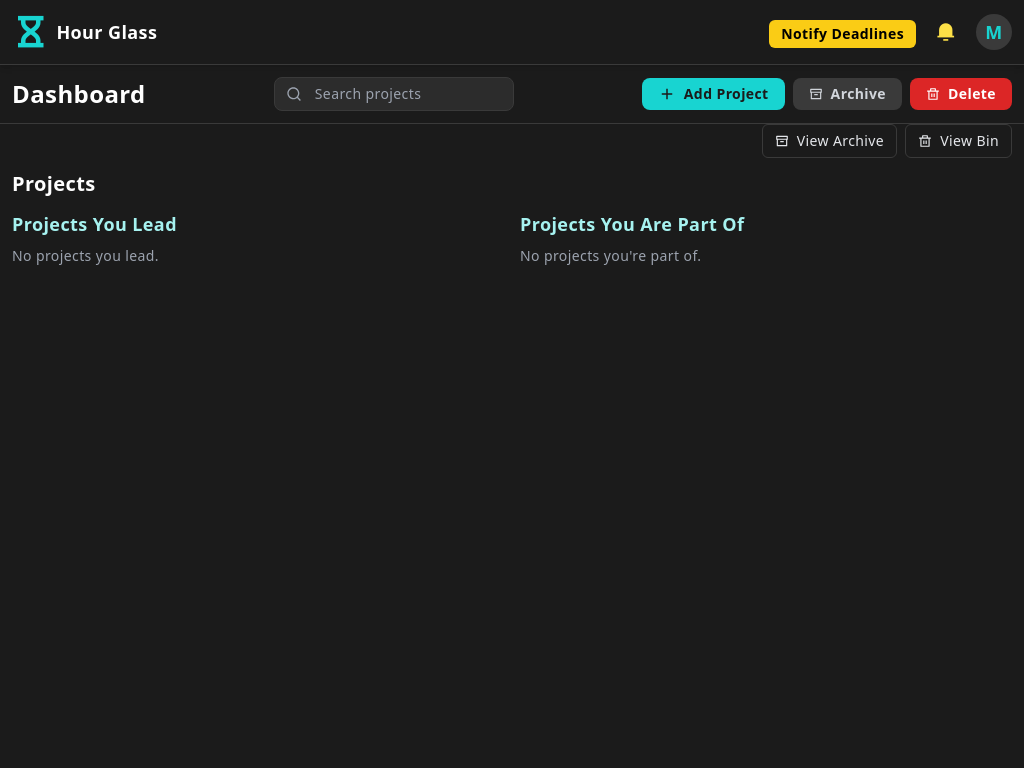
Test: ManagerDashboard Component › handles "Add members by search" panel - username search
The width and height of the screenshot is (1024, 768).
Click the button "Add Project" at (713, 94), box top-left (642, 78), bottom-right (785, 110)
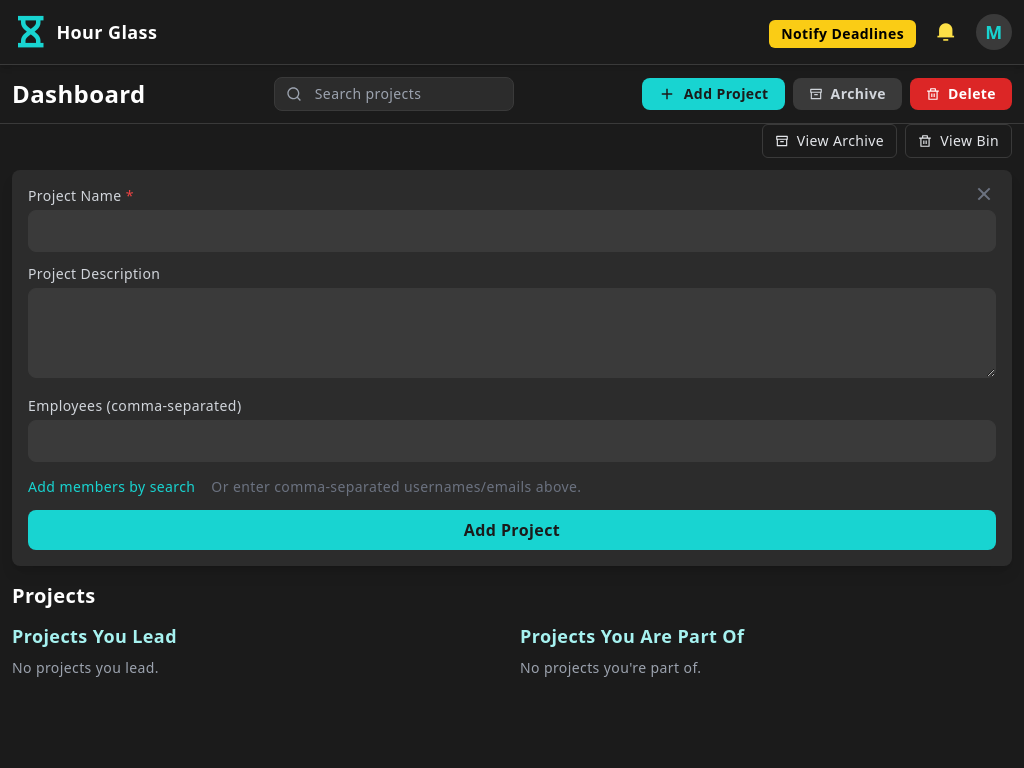
Click the button "Add members by search" at (112, 487), box top-left (28, 477), bottom-right (195, 497)
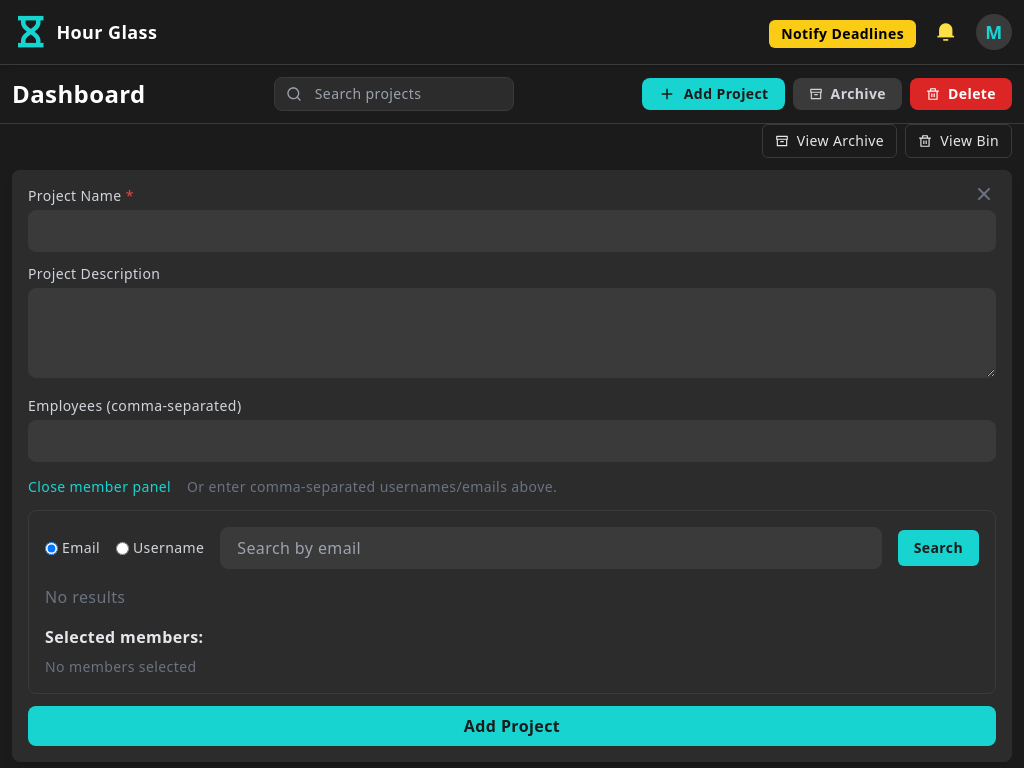
Click the radio button labelled "Username" at (122, 548), box top-left (116, 542), bottom-right (129, 554)
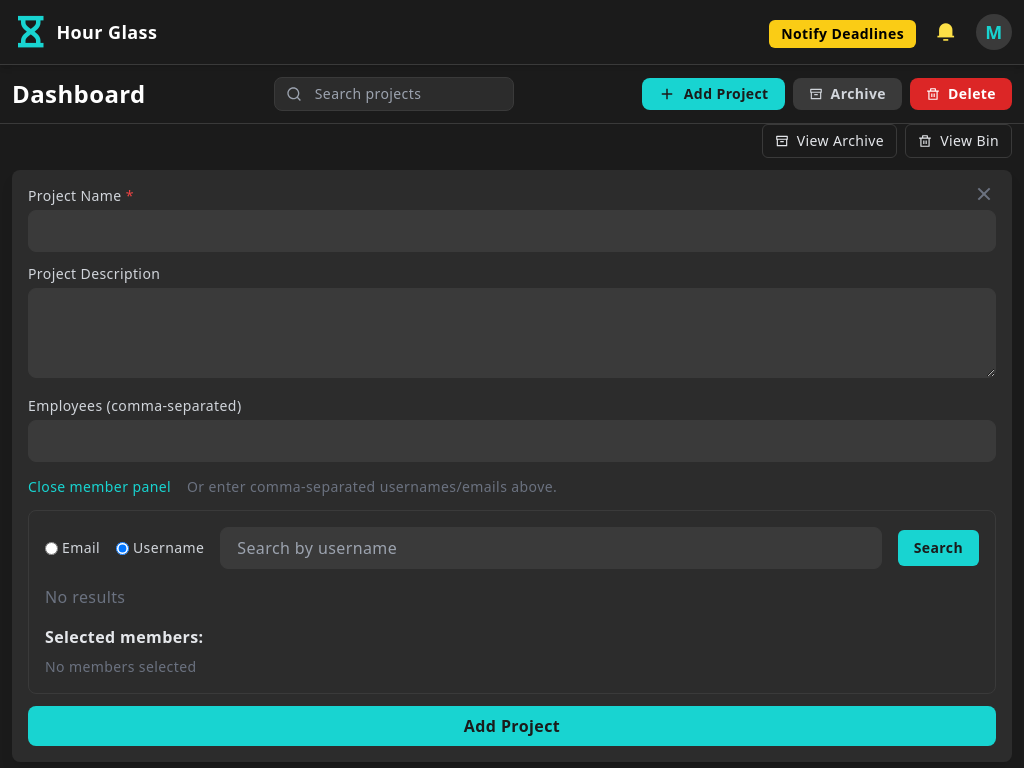
Type "worker_jane" into the field with placeholder "Search by username" at (551, 548), box top-left (220, 527), bottom-right (882, 569)
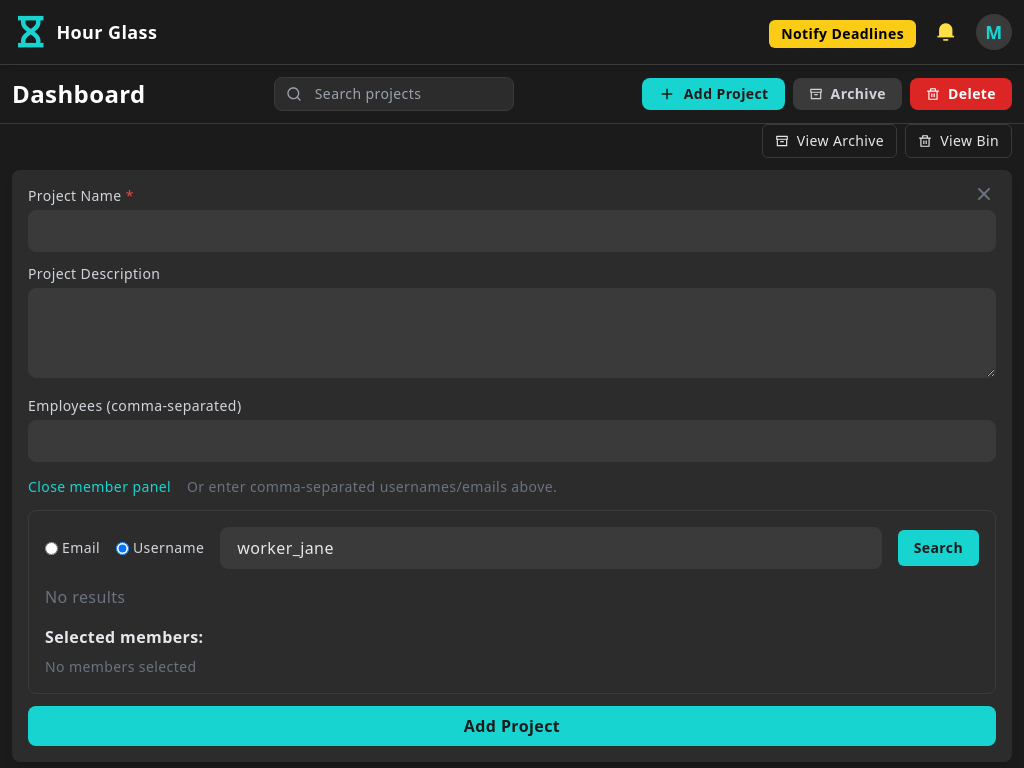
Click the button "Search" at (938, 548), box top-left (898, 530), bottom-right (979, 566)
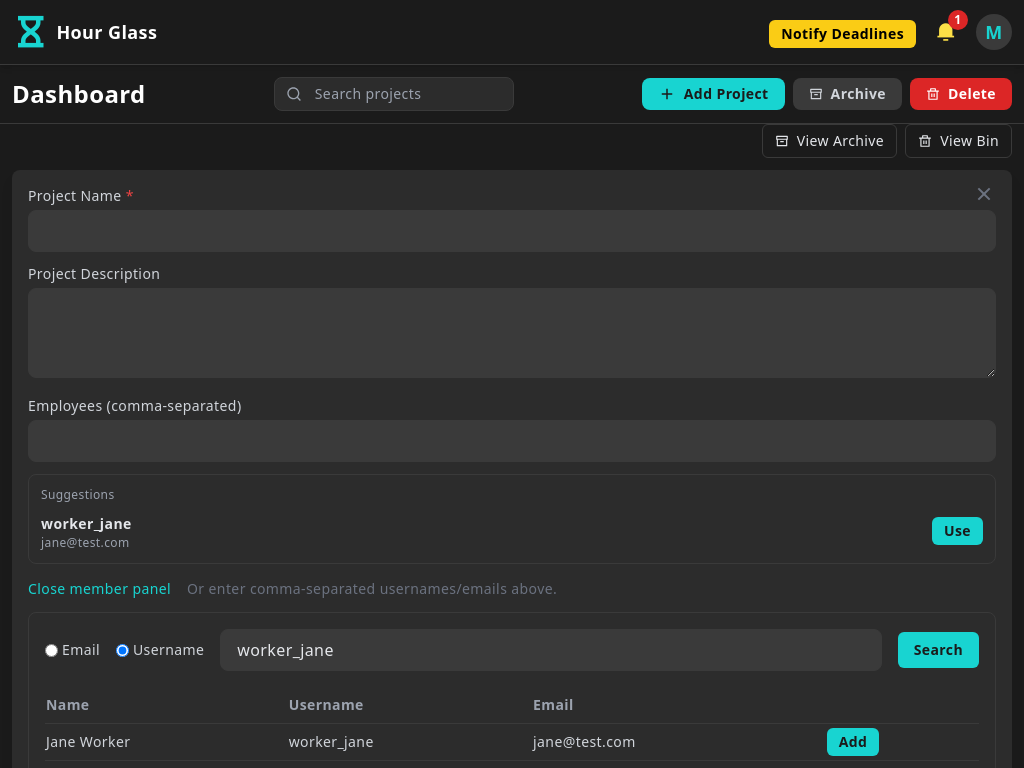
expect the text "worker_jane" is shown: met, box top-left (288, 724), bottom-right (532, 760)
